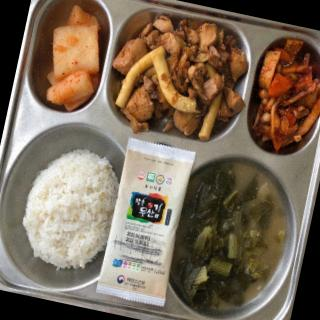Nasi: (12, 140, 123, 283)
